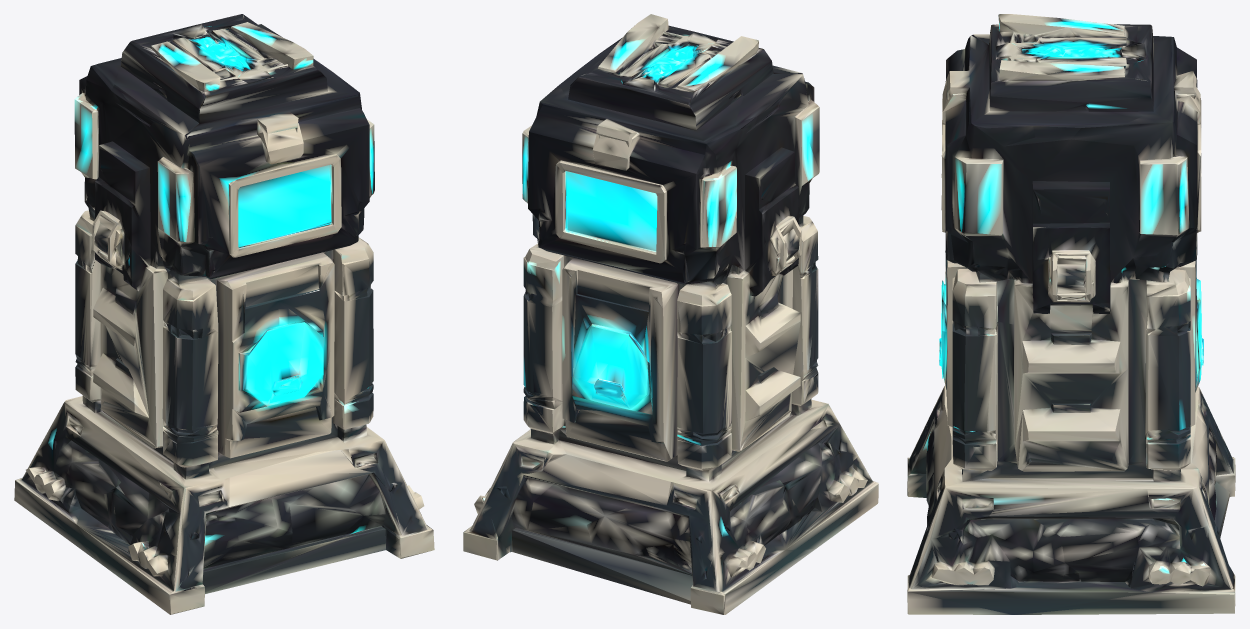
File: obj_beacon_v1.glb
3 views of the same model, side by side, from view 1: azimuth 30°, elevation 25°; view 2: azimuth 150°, elevation 25°; view 3: azimuth 270°, elevation 25° (orthographic). The views are drawn at different scales.
Size of the model in its own units: 0.9269 by 1.6 by 0.9392.
Materials: 1 (1 with a texture image).
